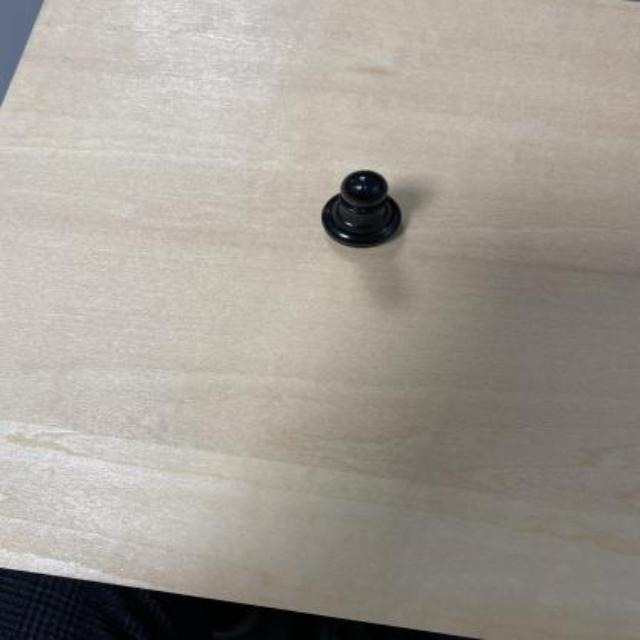black-pawn: (320, 167, 403, 248)
